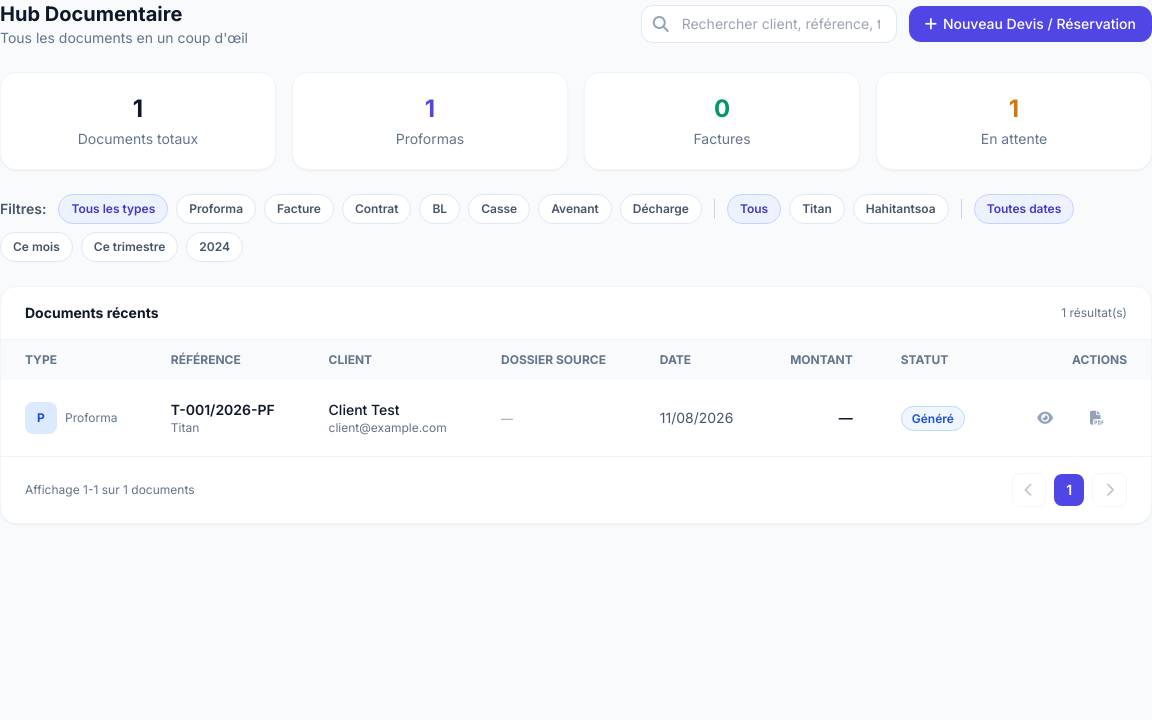
DocumentsHubPage › opens a wide accessible preview with document information
Click the button named "Aperçu de T-001/2026-PF".
click(1045, 418)  # box x1=1023 y1=396 x2=1067 y2=440
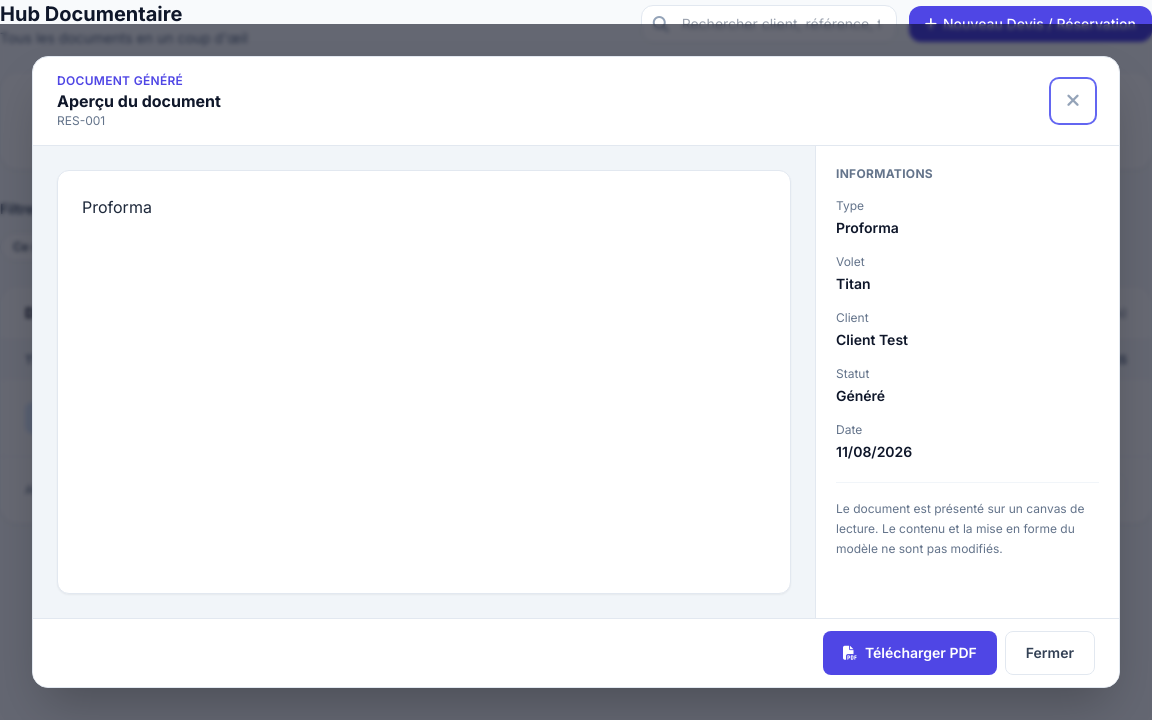
Now the text "Client Test" is shown, box x1=836 y1=331 x2=908 y2=348
Now the text "Volet" is shown, box x1=836 y1=254 x2=865 y2=269
Press Escape in the dialog "Aperçu du document"
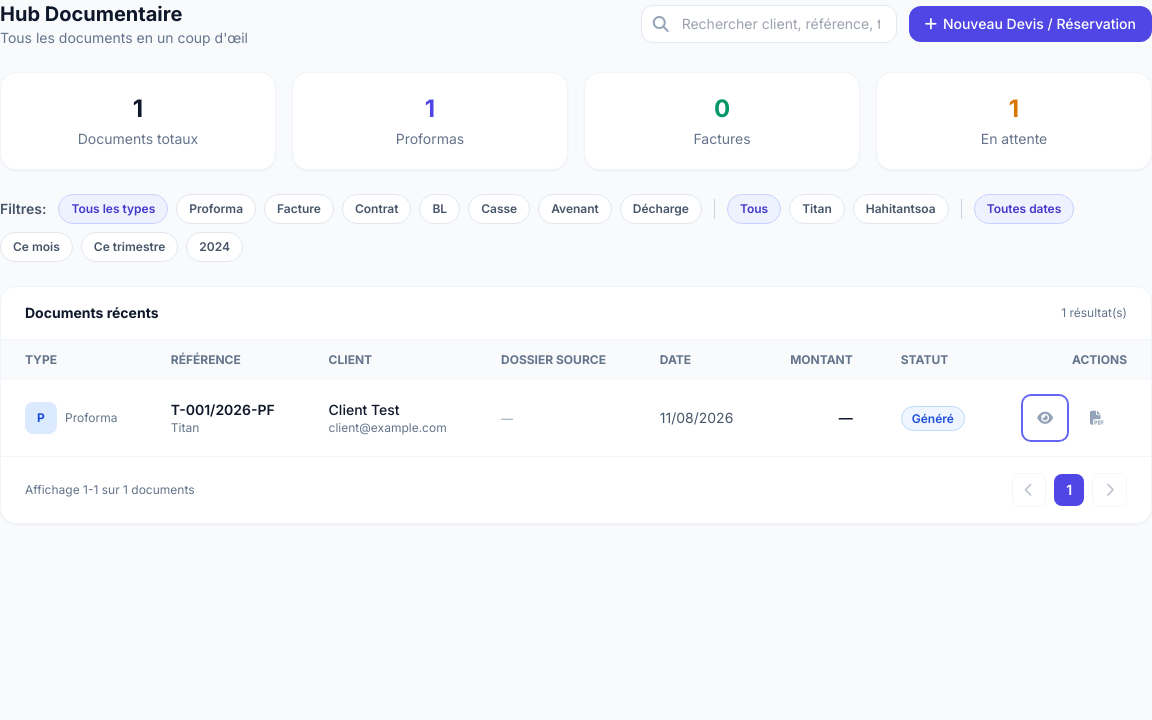
Now the dialog is gone
